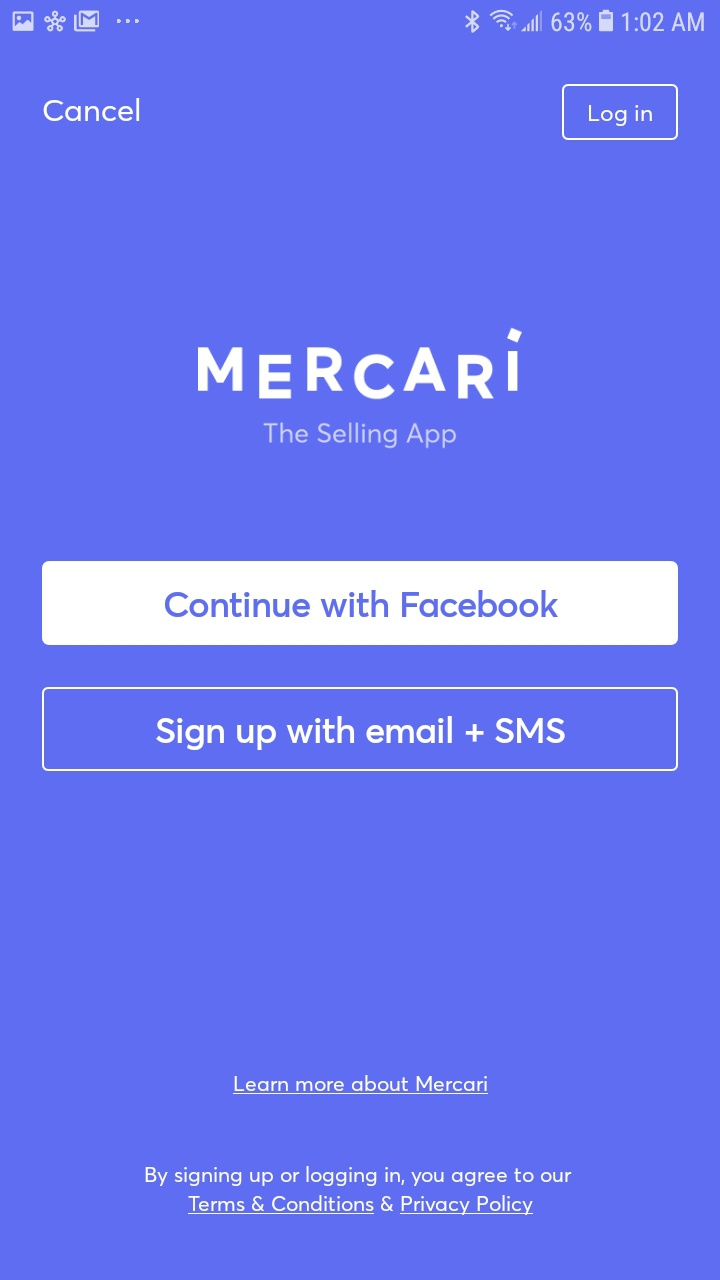Image: (198, 327, 523, 401)
Text: (145, 1165, 572, 1216), (263, 422, 457, 450), (233, 1075, 489, 1095), (44, 98, 141, 123)
TextButton: (42, 561, 679, 646), (42, 687, 679, 772), (561, 84, 679, 142)
UpperTaskBar: (1, 1, 720, 35)
